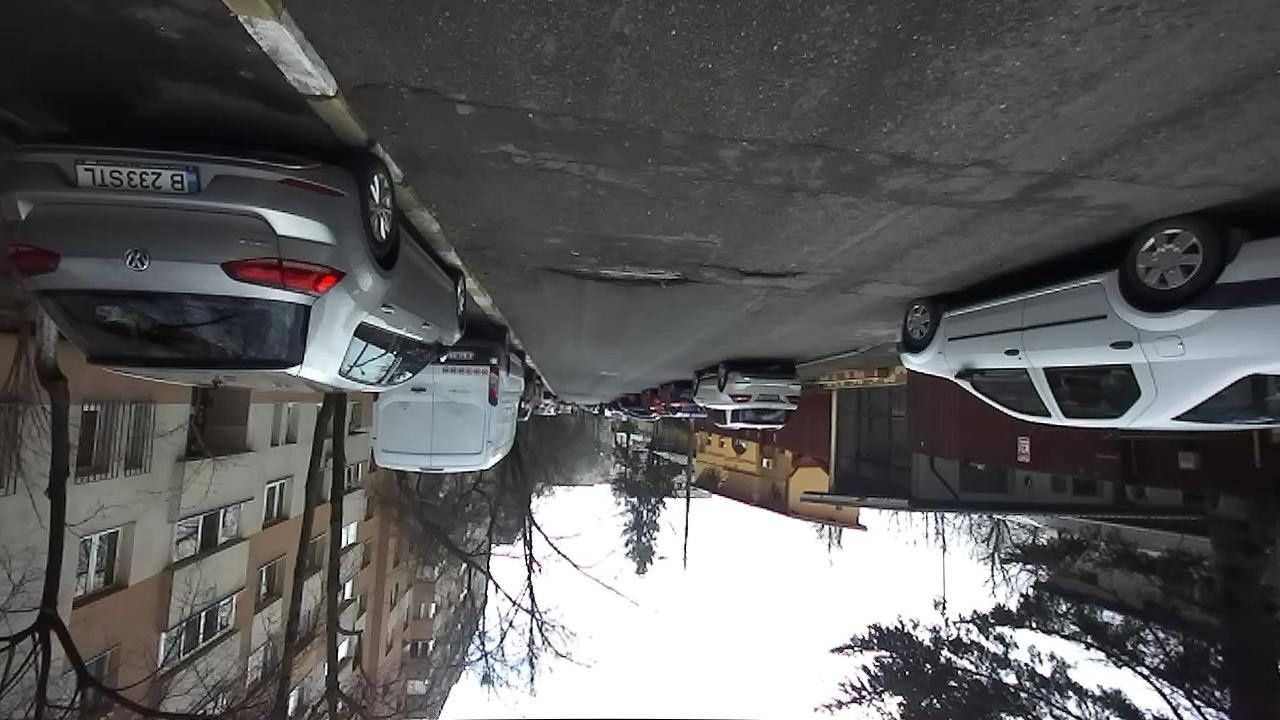pothole: (538, 259, 695, 291), (354, 76, 503, 109), (728, 262, 809, 282)
